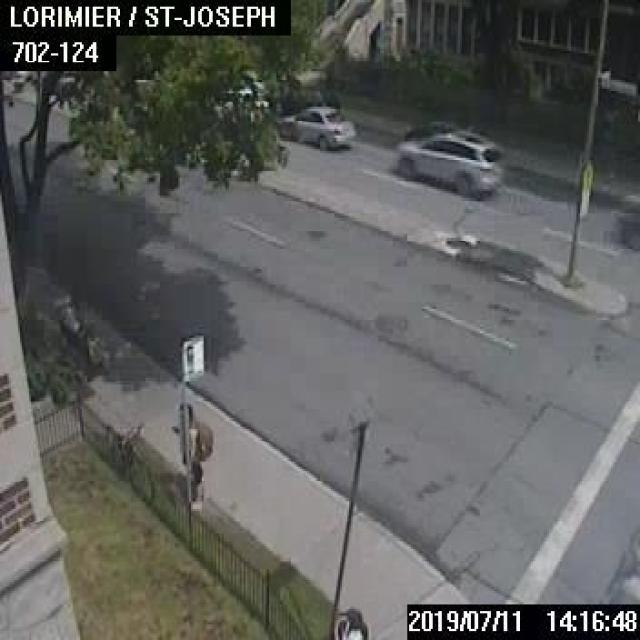pedestrian: (170, 398, 212, 509)
vehicle: (394, 127, 506, 195), (276, 103, 354, 149), (613, 189, 638, 251)
